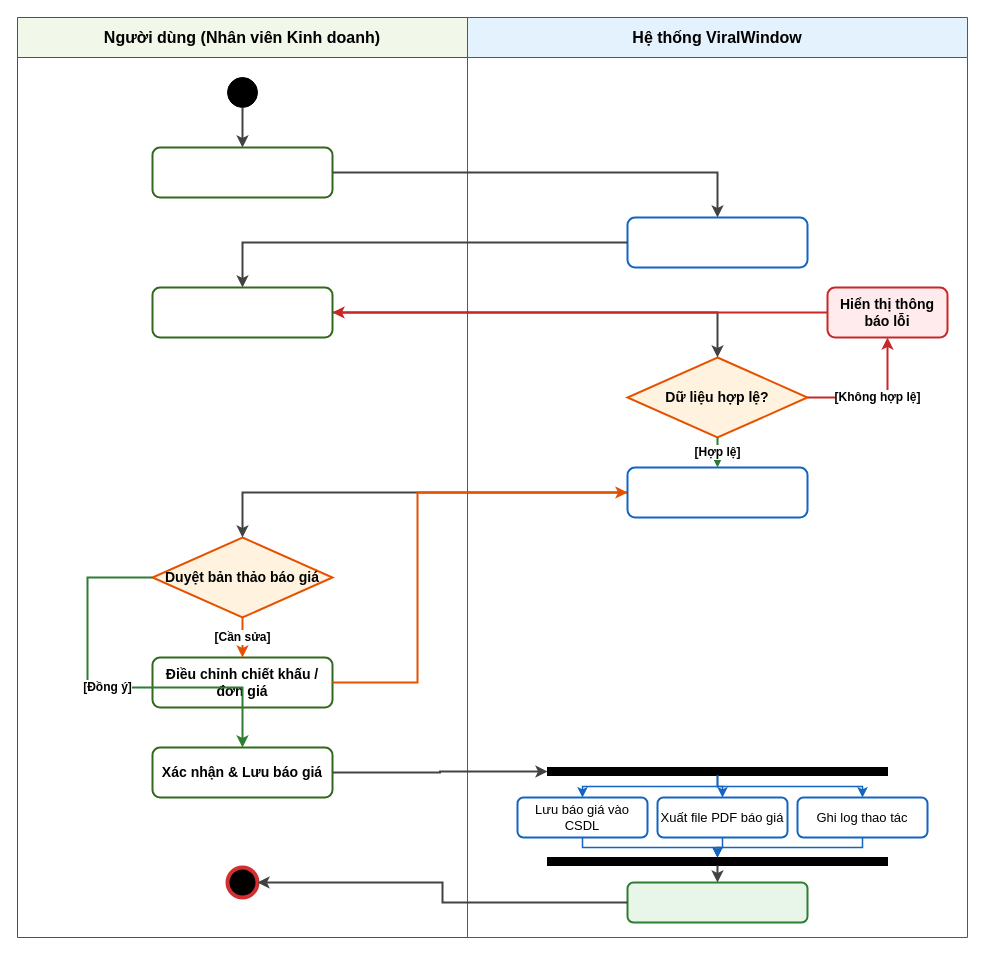
Some shapes in this 985 by 955 pixel diagram are drawn without their labels. The centre of each missing label's shape, as x and y in pixels:
"Hiển thị form tạo báo giá" goes at (x=717, y=242).
"Nhập thông tin khách hàng & chọn mẫu cửa" goes at (x=242, y=312).
"Thông báo thành công" goes at (x=717, y=902).
"Tính toán đơn giá dự toán theo m2 / theo bộ" goes at (x=717, y=492).
"Yêu cầu tạo báo giá mới" goes at (x=242, y=172).
